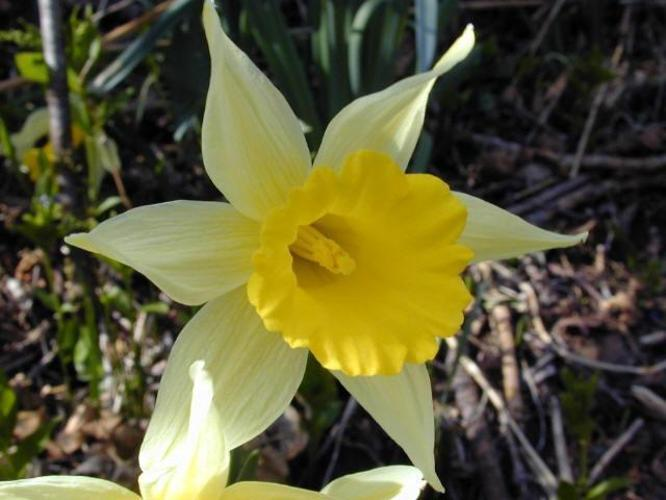flower1: (62, 1, 589, 491)
